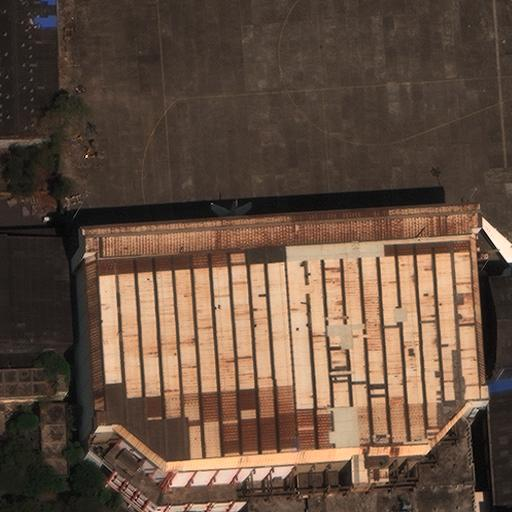Large Civil Transport: (481, 213, 511, 295)
